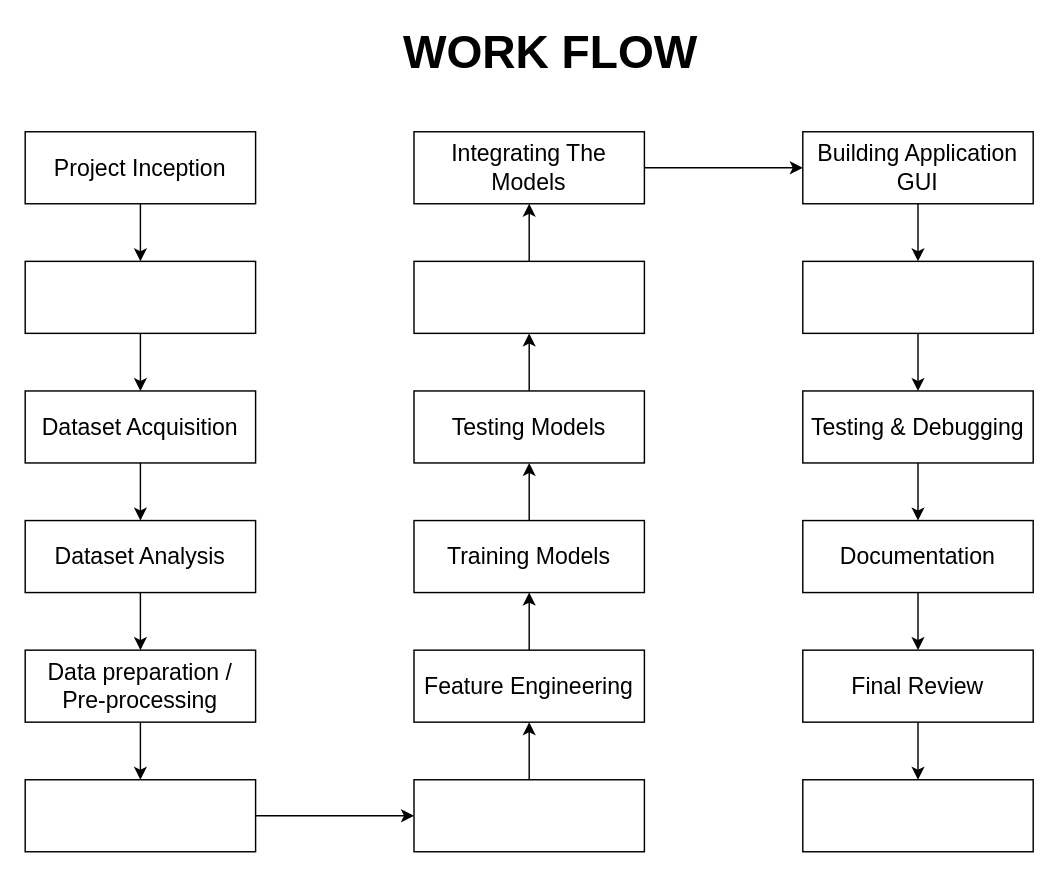
This 1058x877 diagram has some shape labels left out. Each missing label, with the centre of its shape:
"Data Cleaning" goes at point 140,815.
"Data Storage" goes at point 528,815.
"Environment Setup" goes at point 140,296.
"GUI & Model Integration" goes at point 917,296.
"Project Completion" goes at point 917,815.
"Saving The Models" goes at point 528,296.
